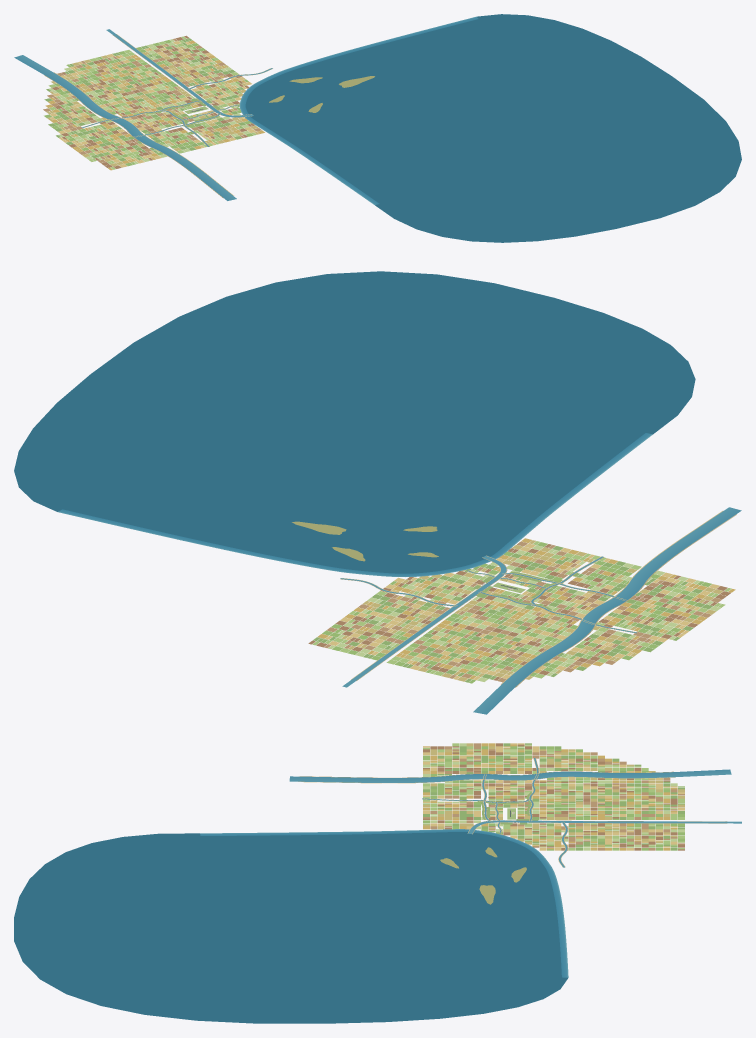
The model's file is land.glb.
The picture shows the model from 3 angles, top to bottom: view 1: azimuth 30°, elevation 25°; view 2: azimuth 150°, elevation 25°; view 3: azimuth 270°, elevation 25°; orthographic projection. The views are drawn at different scales.
Parts seen in each view (by area): view 1: decal-bay, decal-fields, decal-channels, decal-bay-edge, decal-levees, decal-tule; view 2: decal-bay, decal-fields, decal-channels, decal-bay-edge, decal-levees, decal-tule; view 3: decal-bay, decal-fields, decal-channels, decal-bay-edge, decal-levees, decal-tule.
Boxes of the visible parts, <box> form: decal-bay: <box>245,14,741,242</box>; decal-fields: <box>43,35,264,170</box>; decal-channels: <box>14,29,272,200</box>; decal-bay-edge: <box>239,16,478,204</box>; decal-levees: <box>44,34,272,197</box>; decal-tule: <box>269,76,374,112</box>; decal-bay: <box>14,271,695,573</box>; decal-fields: <box>308,538,735,683</box>; decal-channels: <box>340,507,741,714</box>; decal-bay-edge: <box>58,433,652,576</box>; decal-levees: <box>340,511,736,687</box>; decal-tule: <box>292,521,438,561</box>; decal-bay: <box>14,832,567,1023</box>; decal-fields: <box>423,743,684,850</box>; decal-channels: <box>289,758,741,867</box>; decal-bay-edge: <box>200,829,568,977</box>; decal-levees: <box>300,758,726,867</box>; decal-tule: <box>440,847,526,904</box>.
Size of the model in its own units: 120334 by 170 by 132002.
